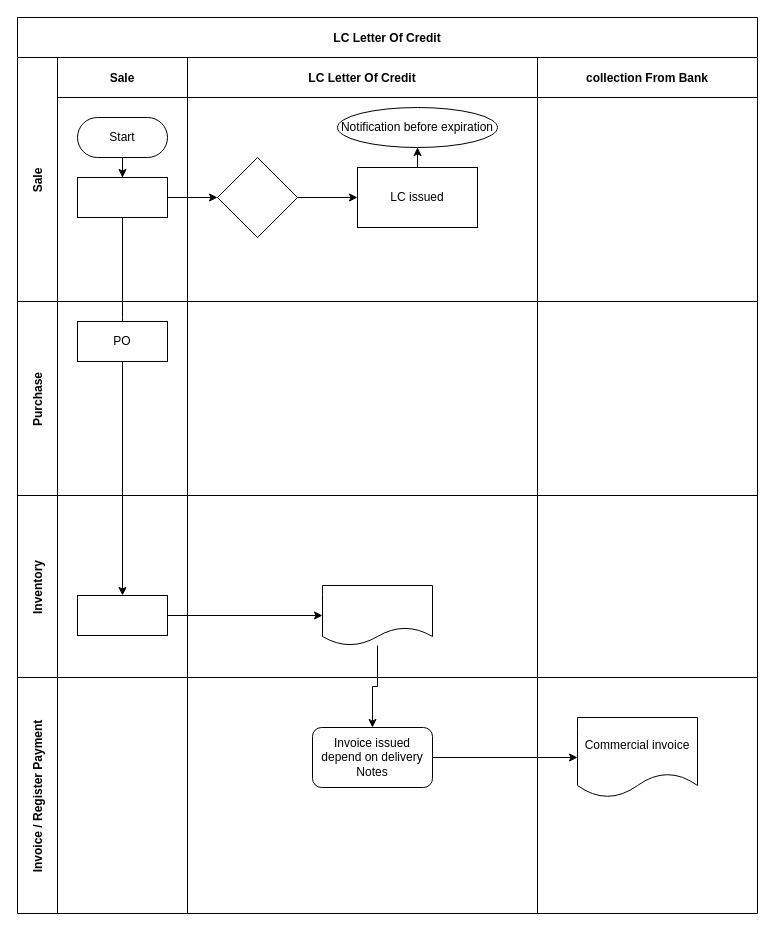
This 775x931 diagram has some shape labels left out. Here are the shapes that lost their labels. From the top down, the centre of each, then its label:
At pixel 122 197: "SO".
At pixel 257 197: "if LC".
At pixel 122 615: "Drop Shipping".
At pixel 377 615: "Delivery Note".
